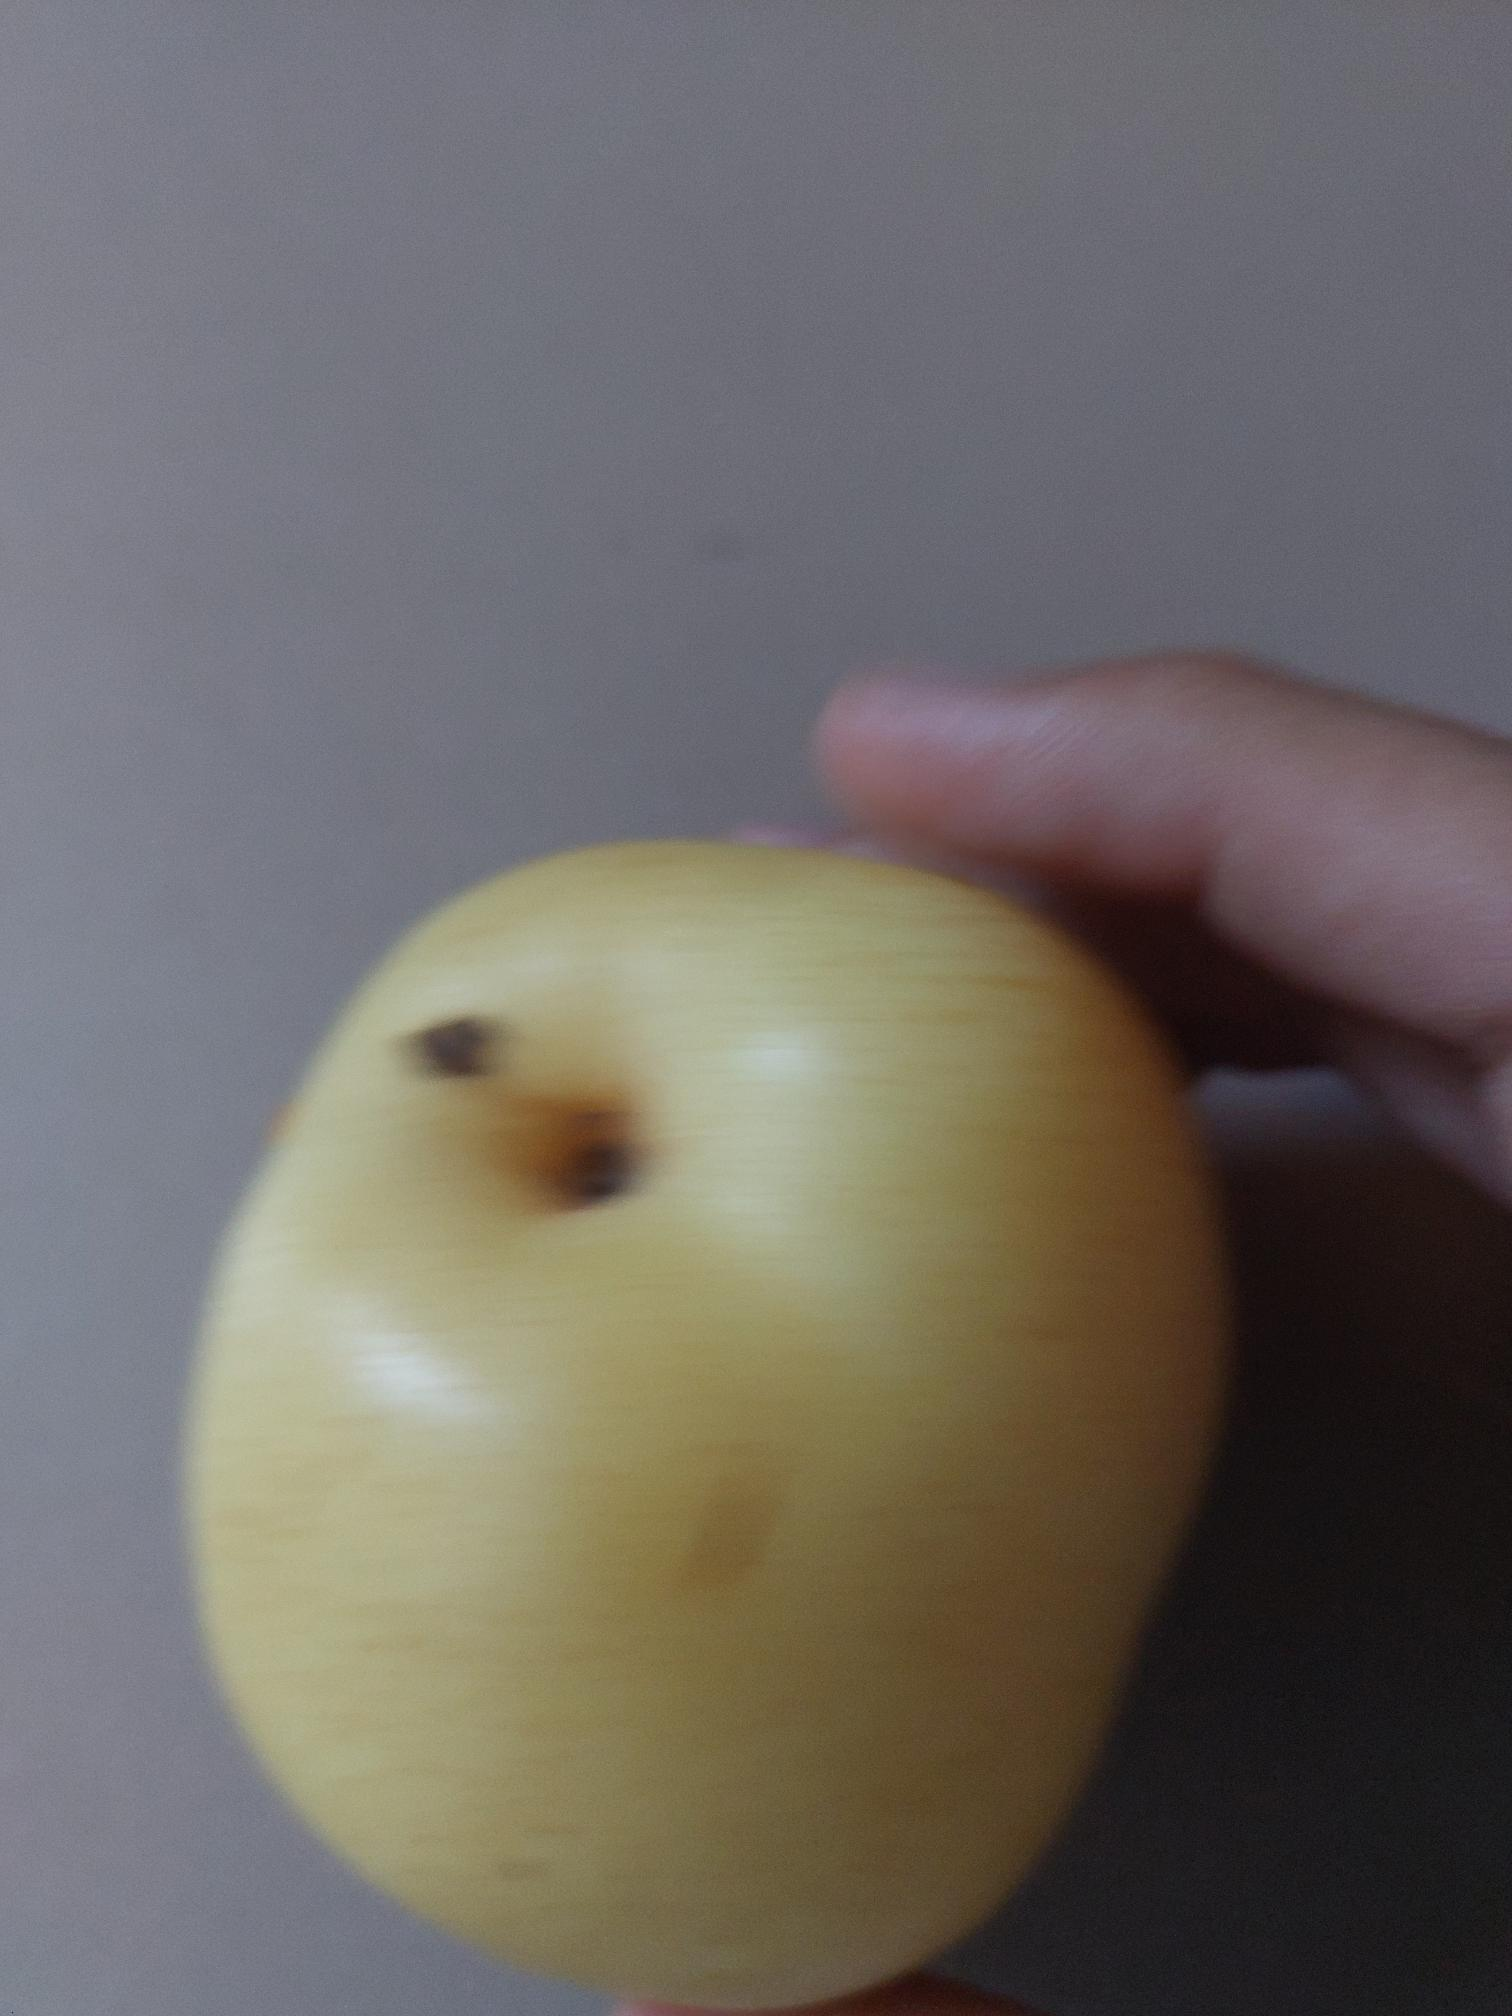Good Pear: (169, 840, 1236, 2006)
